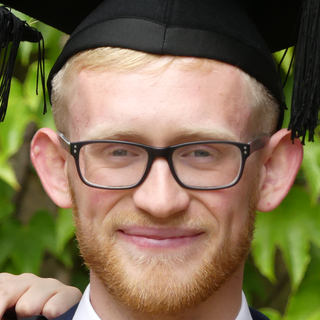eye: (97, 143, 144, 164), (179, 142, 220, 165)
